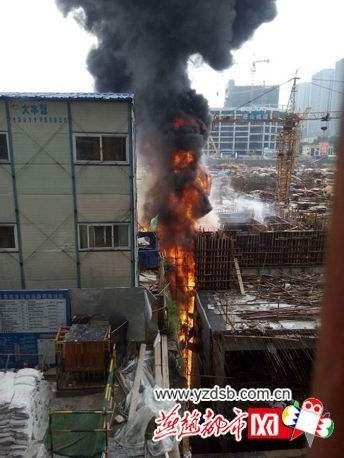fire: (143, 129, 208, 385)
